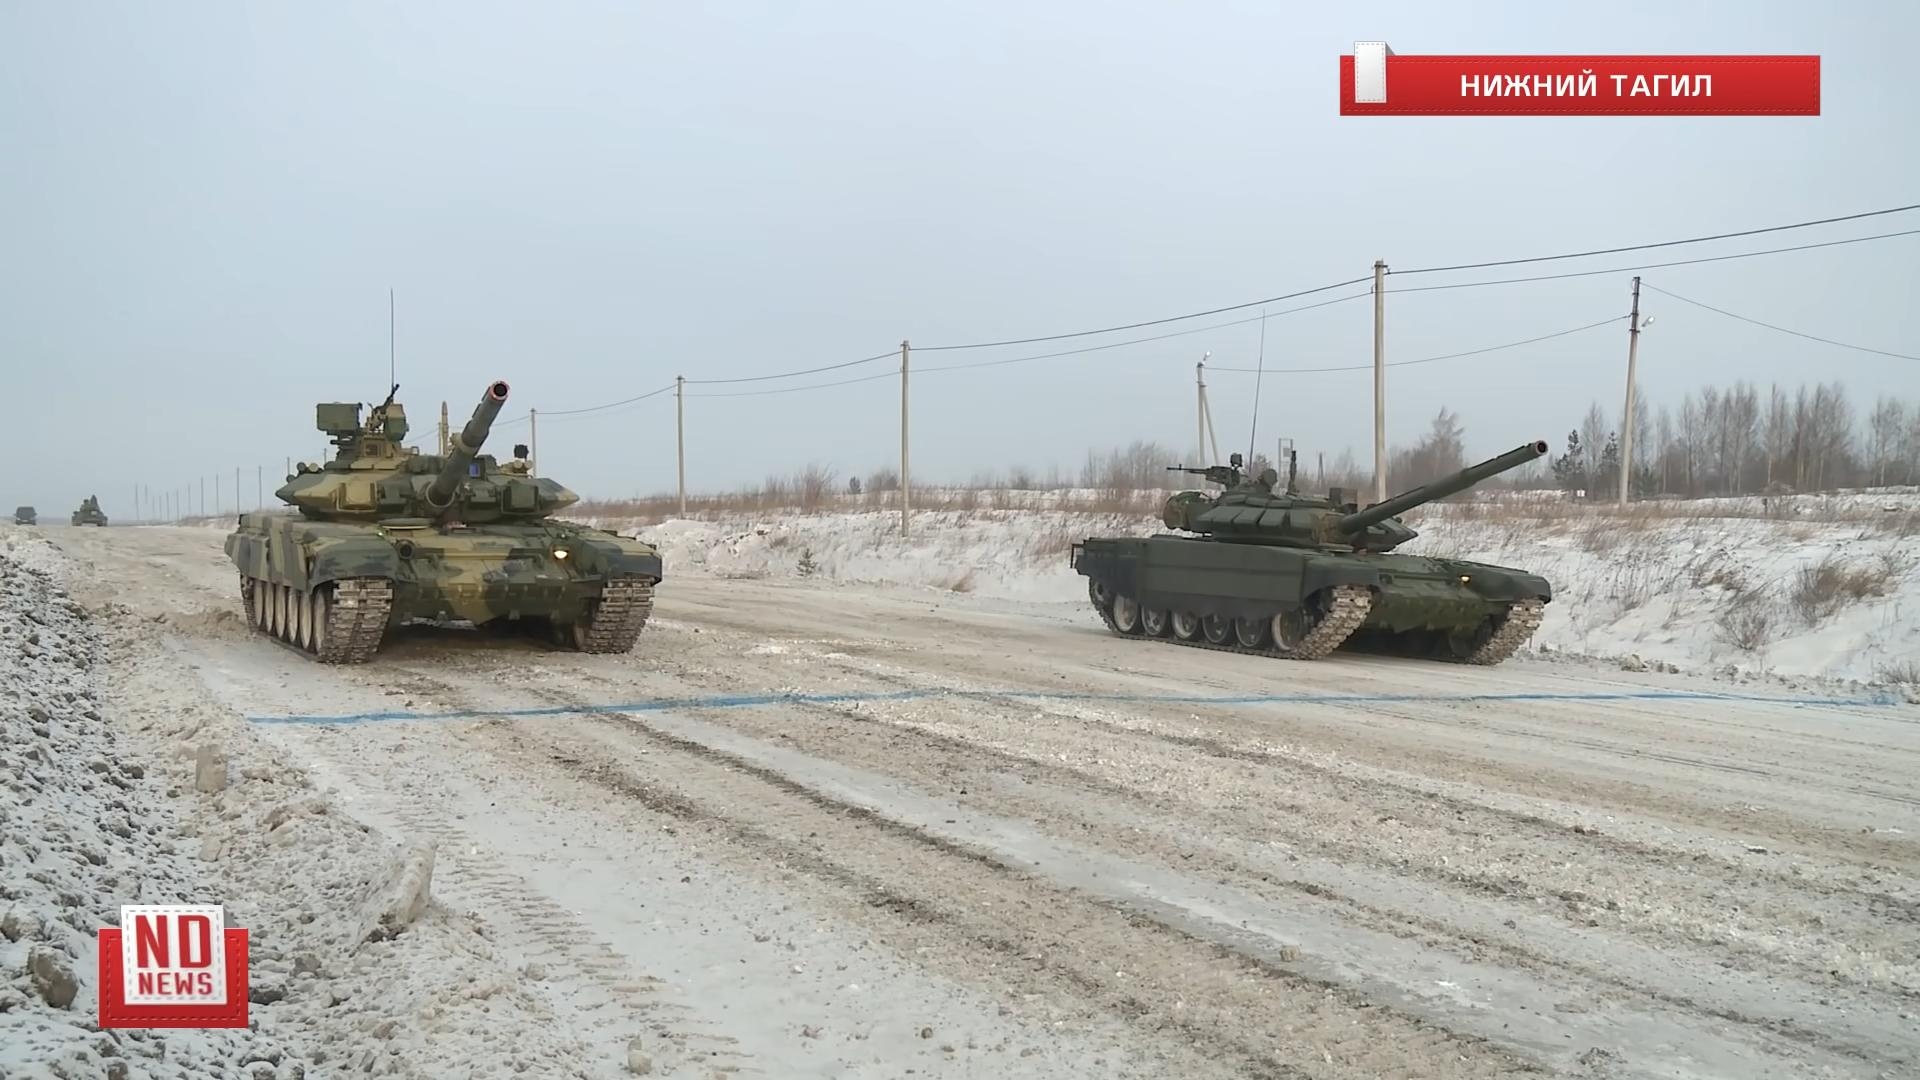tank: (225, 384, 663, 663), (1073, 442, 1551, 663), (73, 496, 107, 526)
